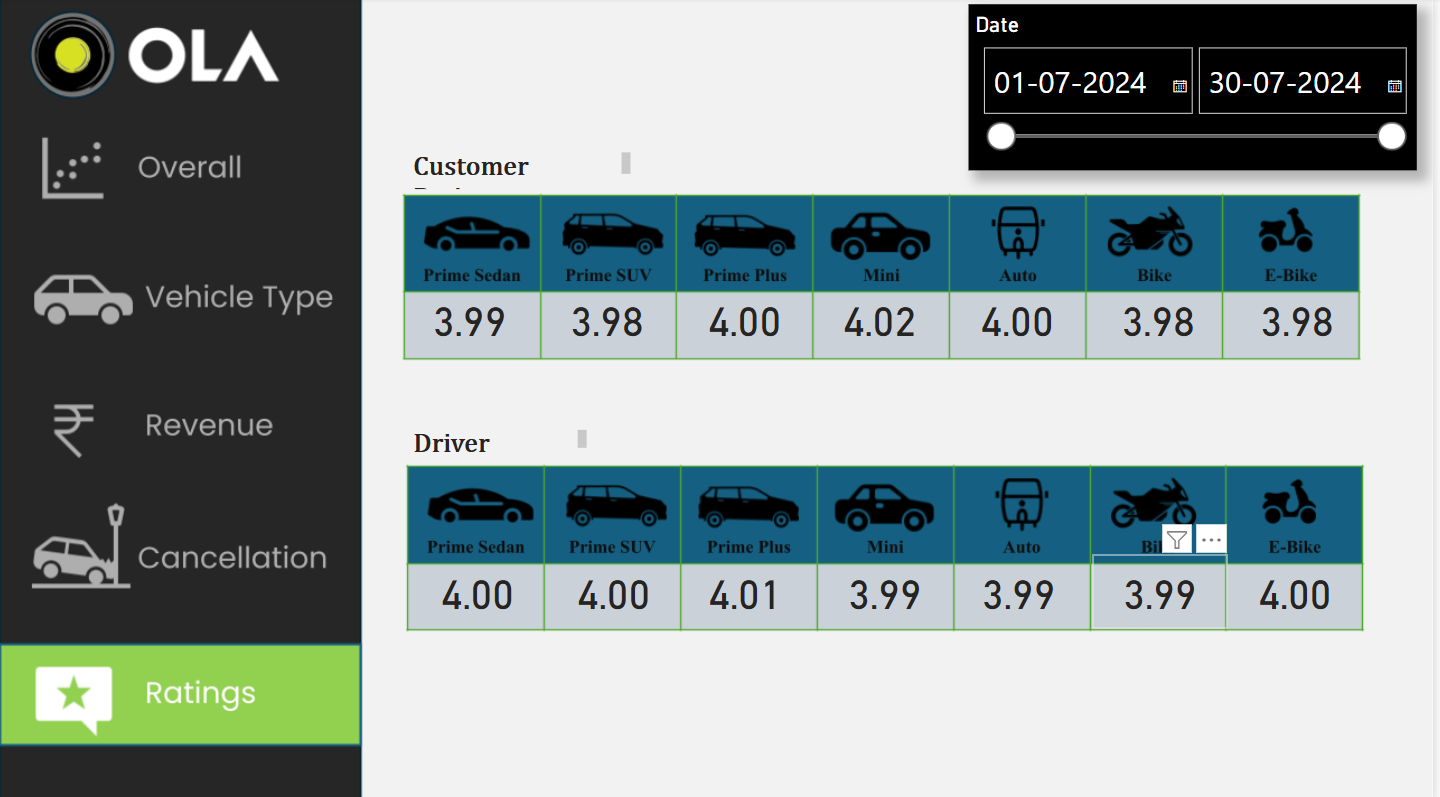

The dashboard page shown, as its layout file describes it:
{"tool":"powerbi","page":{"name":"Ratings","canvas":[1280,720],"ordinal":4},"visuals":[{"type":"actionButton","box":[0,109.4,322.7,90.4],"z":0},{"type":"actionButton","box":[0,223.3,322.7,90.4],"z":1000},{"type":"actionButton","box":[0,340.6,322.7,81.5],"z":2000},{"type":"actionButton","box":[0,443.3,322.7,110.5],"z":3000},{"type":"card","fields":{"Values":["Avg(Bookings-20000-Rows xlsx - July.Customer_Rating)"]},"box":[363.6,260.7,111.1,53.5],"z":4000},{"type":"card","fields":{"Values":["Avg(Bookings-20000-Rows xlsx - July.Customer_Rating)"]},"box":[487.1,260.7,111.1,53.5],"z":5000},{"type":"card","fields":{"Values":["Avg(Bookings-20000-Rows xlsx - July.Customer_Rating)"]},"box":[609.3,260.7,111.1,53.5],"z":6000},{"type":"card","fields":{"Values":["Avg(Bookings-20000-Rows xlsx - July.Customer_Rating)"]},"box":[730,260.7,111.1,53.5],"z":7000},{"type":"card","fields":{"Values":["Avg(Bookings-20000-Rows xlsx - July.Customer_Rating)"]},"box":[853.5,260.7,111.1,53.5],"z":8000},{"type":"card","fields":{"Values":["Avg(Bookings-20000-Rows xlsx - July.Customer_Rating)"]},"box":[979.8,260.7,111.1,53.5],"z":9000},{"type":"card","fields":{"Values":["Avg(Bookings-20000-Rows xlsx - July.Customer_Rating)"]},"box":[1103.3,260.7,111.1,53.5],"z":10000},{"type":"textbox","box":[363.6,134.5,204.5,42.5],"z":11000},{"type":"textbox","box":[363.6,381.5,164.7,39.8],"z":12000},{"type":"card","fields":{"Values":["Avg(Bookings-20000-Rows xlsx - July.Driver_Ratings)"]},"box":[366.4,498.1,120.8,65.9],"z":13000},{"type":"card","fields":{"Values":["Avg(Bookings-20000-Rows xlsx - July.Driver_Ratings)"]},"box":[488.5,498.1,120.8,65.9],"z":14000},{"type":"card","fields":{"Values":["Avg(Bookings-20000-Rows xlsx - July.Driver_Ratings)"]},"box":[605.1,498.1,120.8,65.9],"z":15000},{"type":"card","fields":{"Values":["Avg(Bookings-20000-Rows xlsx - July.Driver_Ratings)"]},"box":[730,498.1,120.8,65.9],"z":16000},{"type":"card","fields":{"Values":["Avg(Bookings-20000-Rows xlsx - July.Driver_Ratings)"]},"box":[849.4,498.1,120.8,65.9],"z":17000},{"type":"card","fields":{"Values":["Avg(Bookings-20000-Rows xlsx - July.Driver_Ratings)"]},"box":[975.6,498.1,120.8,65.9],"z":18000},{"type":"card","fields":{"Values":["Avg(Bookings-20000-Rows xlsx - July.Driver_Ratings)"]},"box":[1096.4,498.1,120.8,65.9],"z":19000},{"type":"slicer","title":"Date","fields":{"Values":["Bookings-20000-Rows xlsx - July.Date"]},"box":[865.1,7,400,147.7],"z":20000}]}

Visuals, with their boxes on the page's 1280x720 design canvas (x1, y1, x2, y2). These are canvas units, not pixel positions in the 1440x797 screenshot, which may show the page scaled, cropped or inside an application window:
actionButton: (0,109,323,200)
actionButton: (0,223,323,314)
actionButton: (0,341,323,422)
actionButton: (0,443,323,554)
card - Avg(Bookings-20000-Rows xlsx - July.Customer_Rating): (364,261,475,314)
card - Avg(Bookings-20000-Rows xlsx - July.Customer_Rating): (487,261,598,314)
card - Avg(Bookings-20000-Rows xlsx - July.Customer_Rating): (609,261,720,314)
card - Avg(Bookings-20000-Rows xlsx - July.Customer_Rating): (730,261,841,314)
card - Avg(Bookings-20000-Rows xlsx - July.Customer_Rating): (854,261,965,314)
card - Avg(Bookings-20000-Rows xlsx - July.Customer_Rating): (980,261,1091,314)
card - Avg(Bookings-20000-Rows xlsx - July.Customer_Rating): (1103,261,1214,314)
textbox: (364,134,568,177)
textbox: (364,382,528,421)
card - Avg(Bookings-20000-Rows xlsx - July.Driver_Ratings): (366,498,487,564)
card - Avg(Bookings-20000-Rows xlsx - July.Driver_Ratings): (488,498,609,564)
card - Avg(Bookings-20000-Rows xlsx - July.Driver_Ratings): (605,498,726,564)
card - Avg(Bookings-20000-Rows xlsx - July.Driver_Ratings): (730,498,851,564)
card - Avg(Bookings-20000-Rows xlsx - July.Driver_Ratings): (849,498,970,564)
card - Avg(Bookings-20000-Rows xlsx - July.Driver_Ratings): (976,498,1096,564)
card - Avg(Bookings-20000-Rows xlsx - July.Driver_Ratings): (1096,498,1217,564)
"Date" slicer: (865,7,1265,155)
